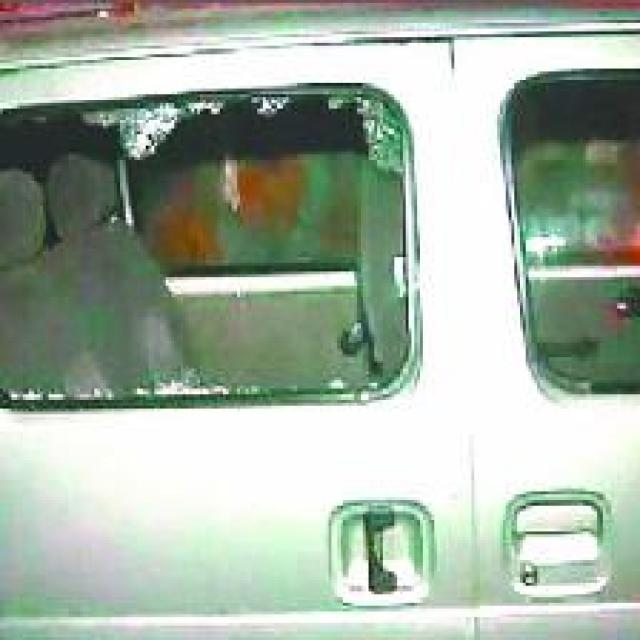glass_shatter_severe: (0, 94, 414, 406)
